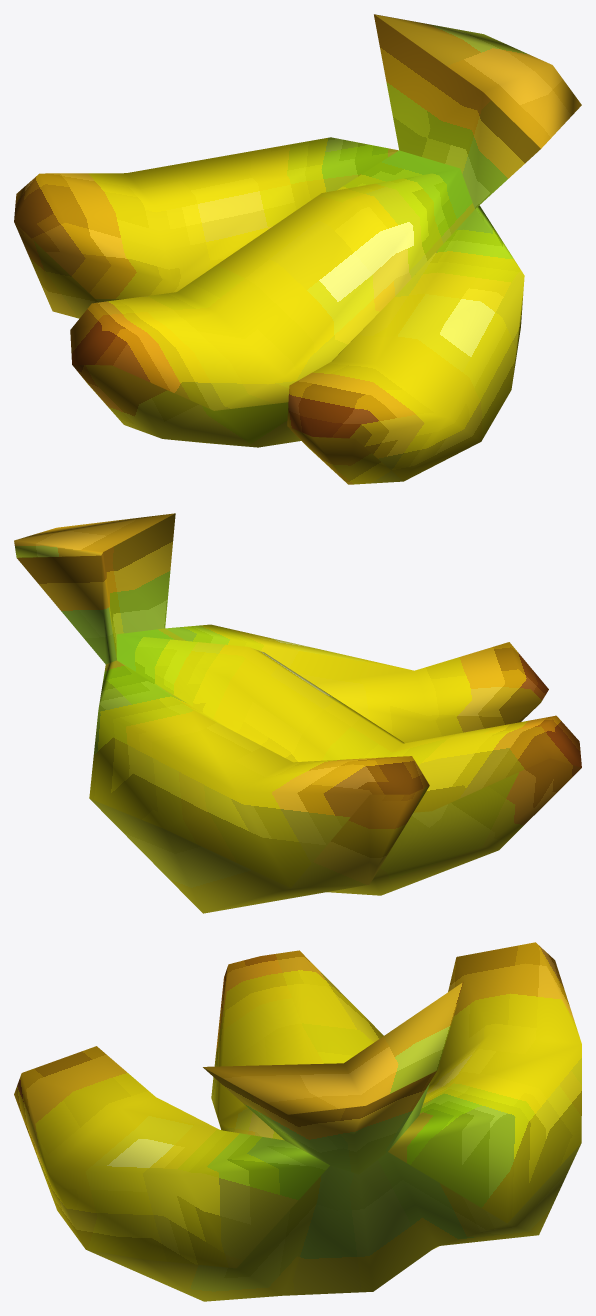
Rendered from Banana.glb.
3 renders of one model, top to bottom at view 1: azimuth 30°, elevation 25°; view 2: azimuth 150°, elevation 25°; view 3: azimuth 270°, elevation 25°, orthographic. The views are drawn at different scales.
Visible parts, largest first — view 1: _0_0; view 2: _0_0; view 3: _0_0.
Part boxes in pixels (x1=…): _0_0: x1=14, y1=14, x2=581, y2=484; _0_0: x1=14, y1=513, x2=581, y2=913; _0_0: x1=14, y1=942, x2=581, y2=1301.
Bounding box in the file's own units: 19.53 × 12.05 × 16.9.
1 material, 1 textured.
